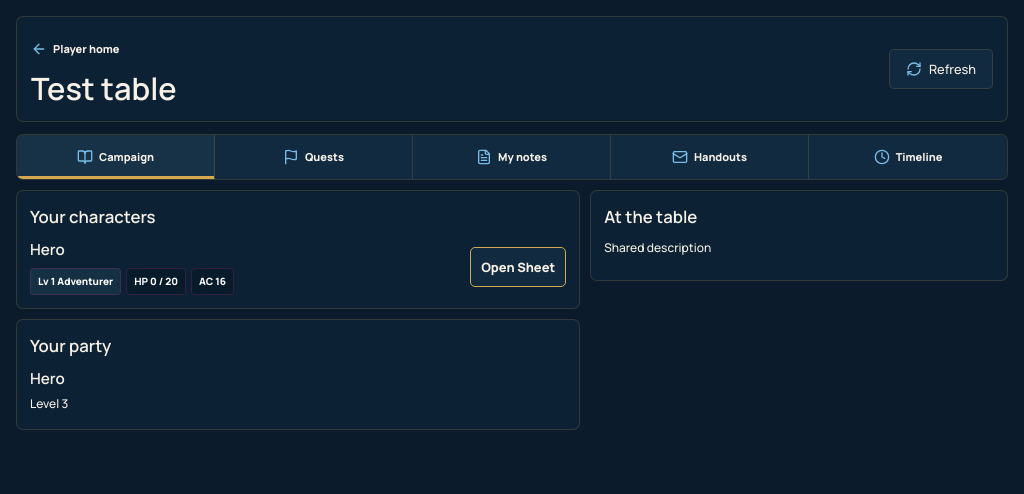
keeps loaded campaign details when refresh fails
Check: the heading "Test table" is shown, box x1=31 y1=72 x2=177 y2=104
Click the button "Refresh": (941, 69) x1=889 y1=49 x2=993 y2=89
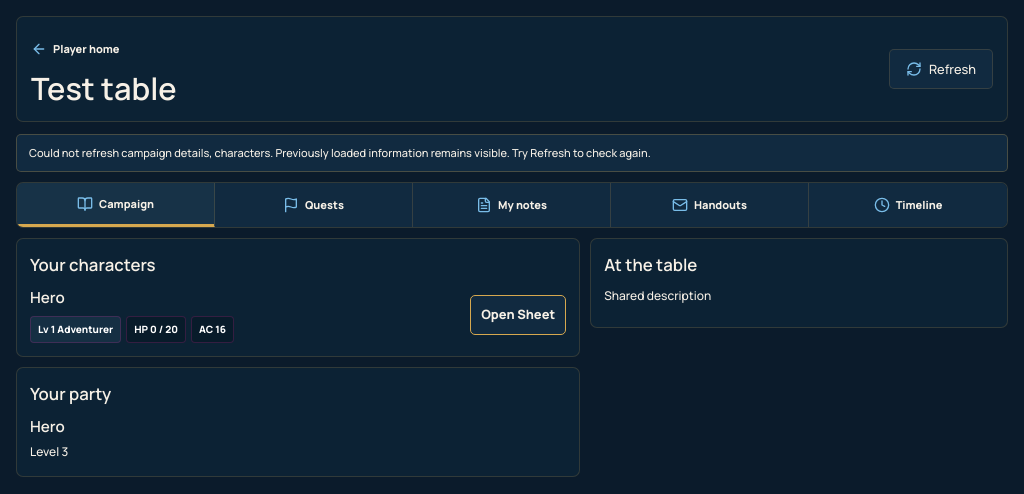
Check: the heading "Test table" is shown, box x1=31 y1=72 x2=177 y2=104
Check: the message shows "Could not refresh", box x1=29 y1=145 x2=121 y2=160
